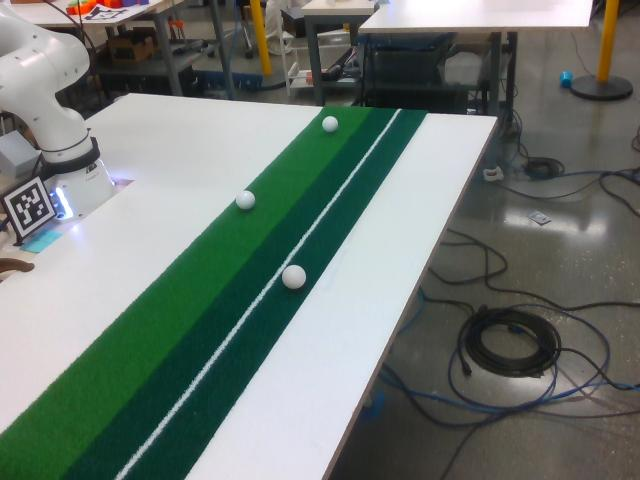golf_balls: (282, 265, 306, 289), (235, 190, 256, 210), (322, 115, 338, 132)
